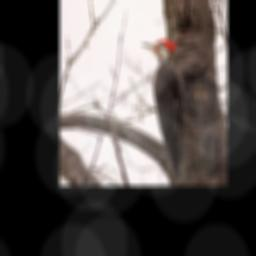Woodpecker: (140, 40, 188, 177)
